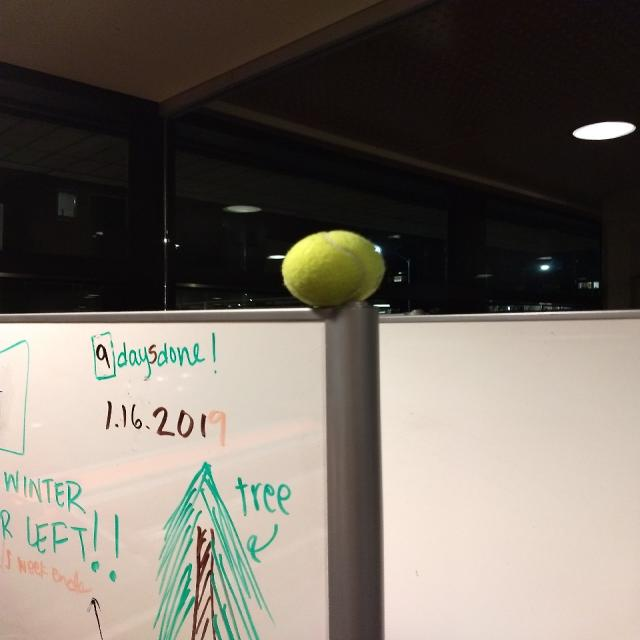Tennis-Ball: (281, 229, 386, 308)
